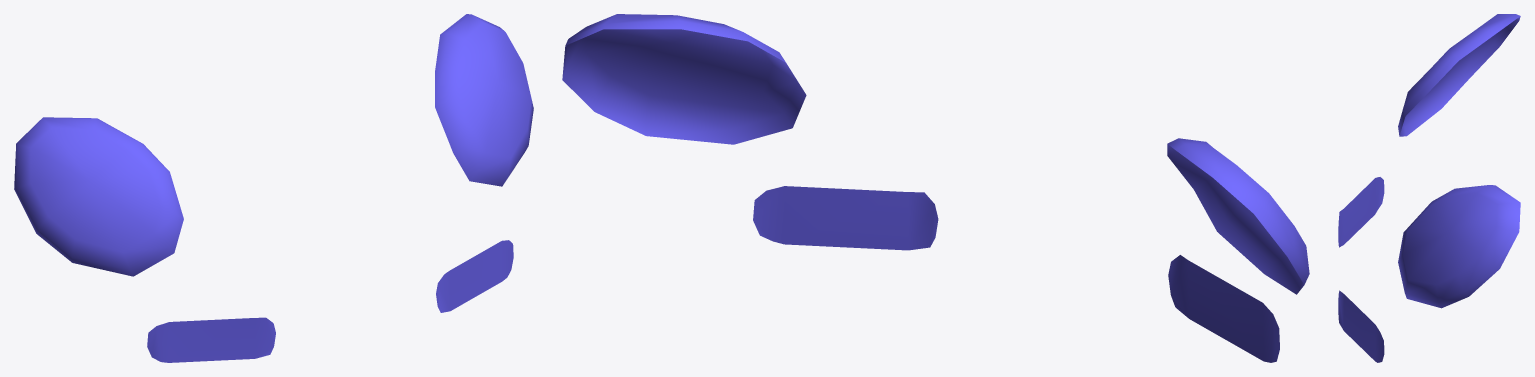
Rendered from FX_LW_VH_Bumpcar_Front.FBX.
3 views of the same model, side by side, from view 1: azimuth 30°, elevation 25°; view 2: azimuth 150°, elevation 25°; view 3: azimuth 270°, elevation 25° (orthographic). The views are drawn at different scales.
Parts seen in each view (by area): view 1: LW_VH_BumpCar_002_Light; view 2: LW_VH_BumpCar_002_Light; view 3: LW_VH_BumpCar_002_Light.
Boxes of the visible parts, box(x1,y1,x2,y2) form: LW_VH_BumpCar_002_Light: box(14, 14, 533, 362); LW_VH_BumpCar_002_Light: box(562, 14, 1309, 362); LW_VH_BumpCar_002_Light: box(1338, 14, 1520, 362).
Bounding box in the file's own units: 164 × 56.83 × 62.05.
